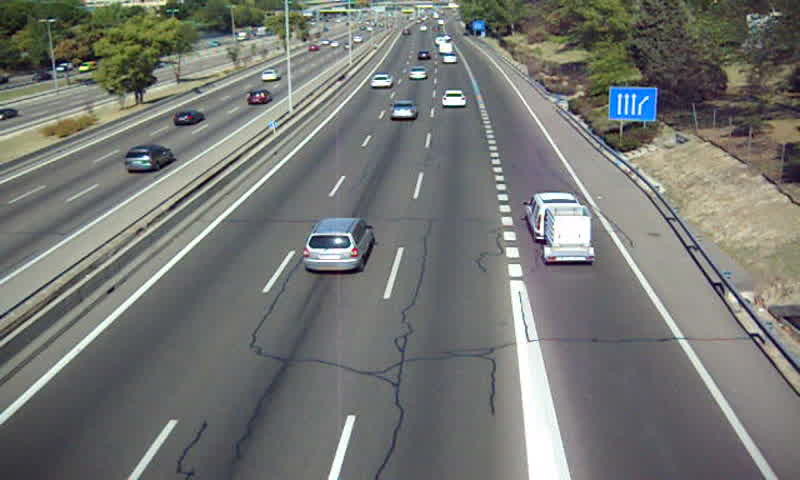car: (302, 217, 374, 273), (388, 100, 419, 122), (442, 89, 466, 108), (370, 73, 392, 90), (406, 66, 429, 81), (442, 53, 459, 64)
van: (524, 194, 585, 240)
